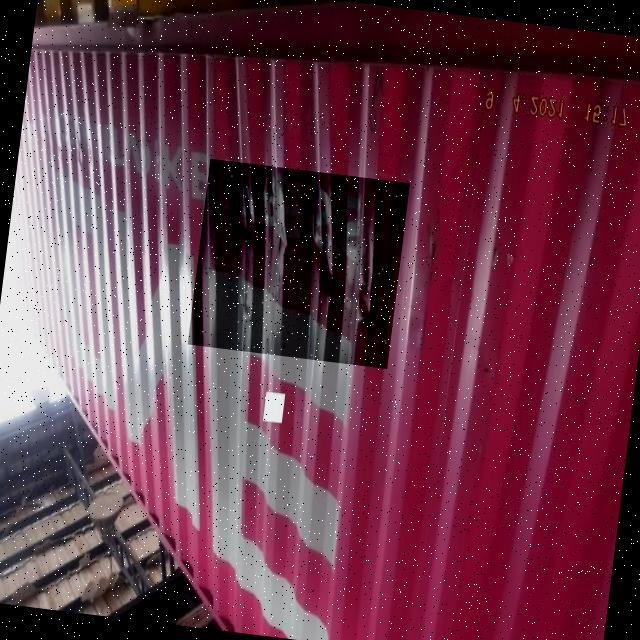Dent: (187, 159, 409, 369)
